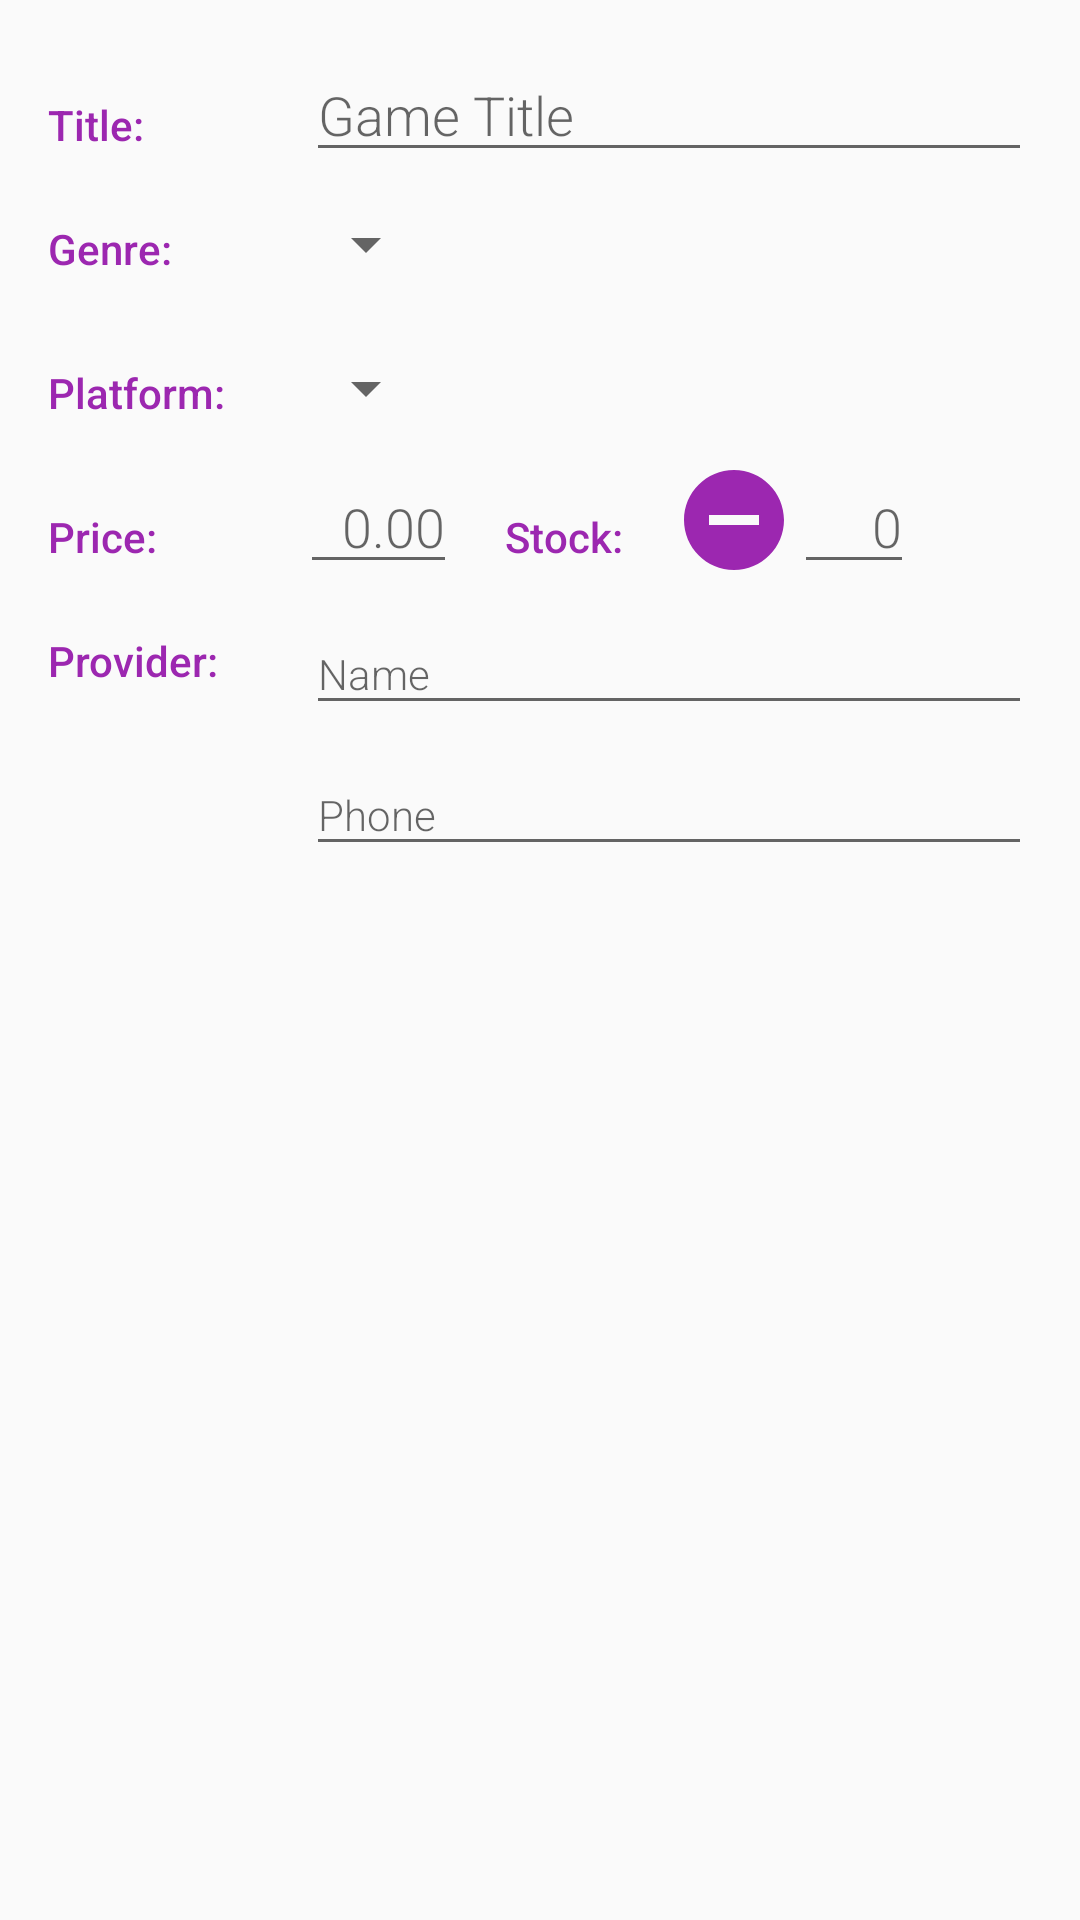

Named icons in this screenshot (1080w x 1920h) and their bounding boxes, [x1=x1, y1=y1, x2=x2, y2=y2]:
remove circle: [x1=684, y1=470, x2=784, y2=570]
